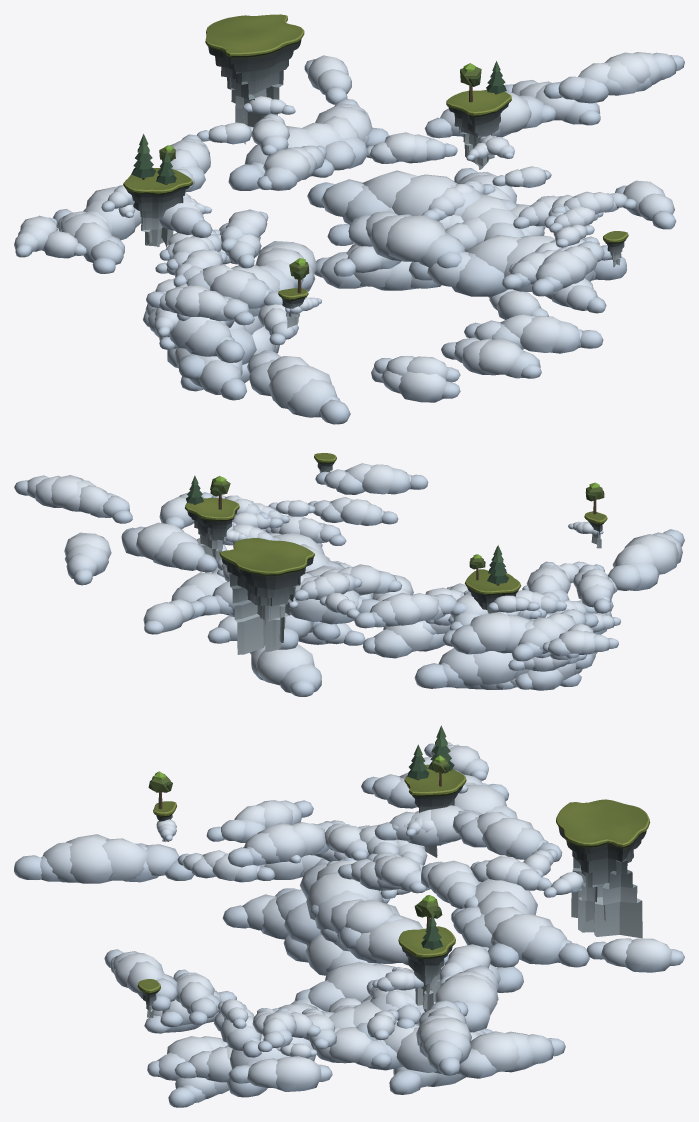
Rendered from Arena_Swamp_Sky.fbx.
3 views of the same model, one above another, from view 1: azimuth 30°, elevation 25°; view 2: azimuth 150°, elevation 25°; view 3: azimuth 270°, elevation 25° (orthographic). The views are drawn at different scales.
Visible parts, largest first — view 1: Arena_Swamp_Sky.001; view 2: Arena_Swamp_Sky.001; view 3: Arena_Swamp_Sky.001.
Part boxes in pixels (<box>): Arena_Swamp_Sky.001: <box>14,14,684,424</box>; Arena_Swamp_Sky.001: <box>14,453,684,696</box>; Arena_Swamp_Sky.001: <box>14,725,684,1107</box>.
Bounding box in the file's own units: 78.1 × 23.01 × 63.6.
